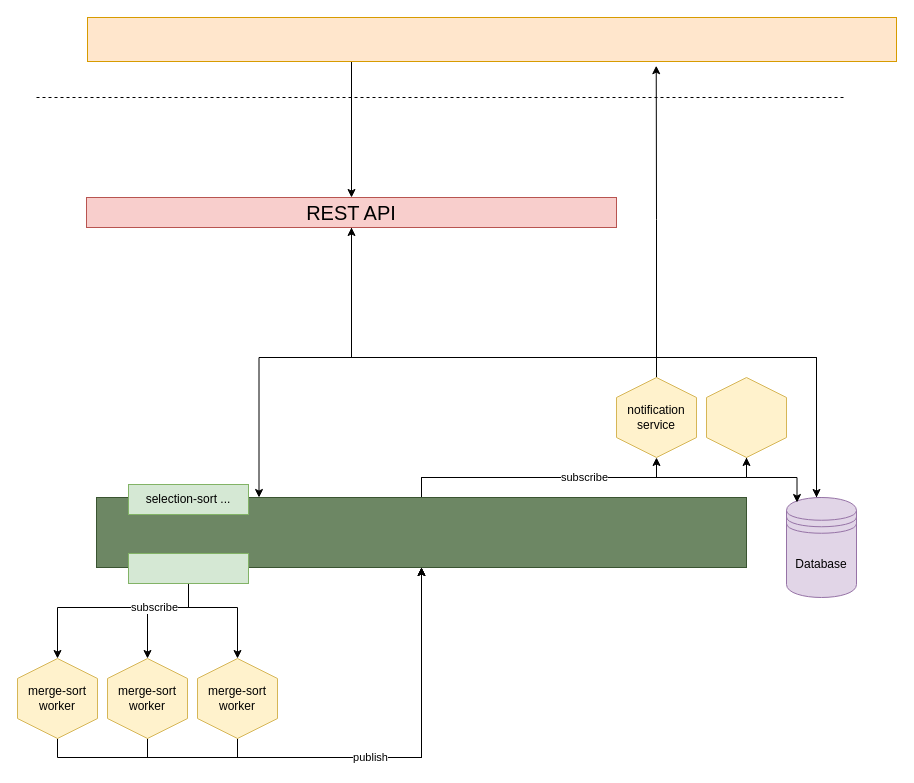
The diagram is 914 pixels wide and 783 high, and some of its shapes have lost their labels. The box of each missing label's shape, as (x1, y1, x2, y2) in pixels:
Frontend: (86, 16, 896, 62)
merge-sort: (128, 552, 248, 584)
persistance service: (706, 376, 786, 458)
RabbitMQ: (96, 496, 746, 568)
